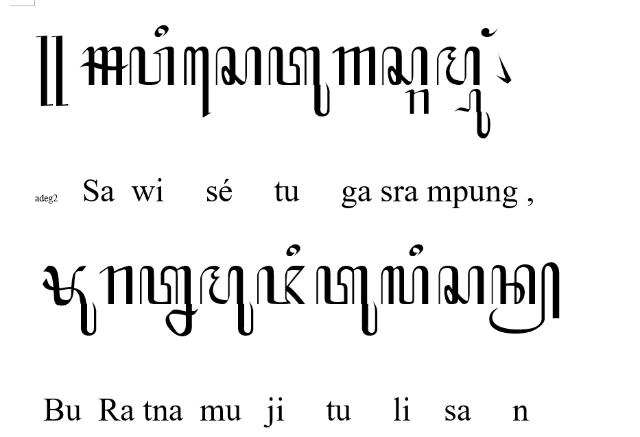-n: (488, 262, 560, 334)
Bu: (42, 266, 98, 336)
S: (80, 47, 128, 86)
_pu: (455, 88, 491, 138)
_r: (404, 90, 430, 114)
adeg2: (36, 36, 68, 106)
e1: (183, 46, 211, 118)
g: (332, 46, 376, 86)
i: (408, 244, 424, 258), (153, 24, 169, 38), (286, 244, 300, 256)
j: (256, 265, 306, 305)
kom: (496, 52, 512, 84)
l: (381, 266, 427, 304)
m: (436, 46, 479, 86)
mu: (200, 266, 253, 336)
ng: (482, 27, 498, 37)
r: (99, 266, 133, 306)
s: (438, 264, 484, 306), (214, 46, 262, 86), (381, 46, 427, 86)
tn: (140, 266, 198, 336)
tu: (268, 47, 330, 117), (316, 266, 378, 336)
w: (130, 47, 174, 86)
